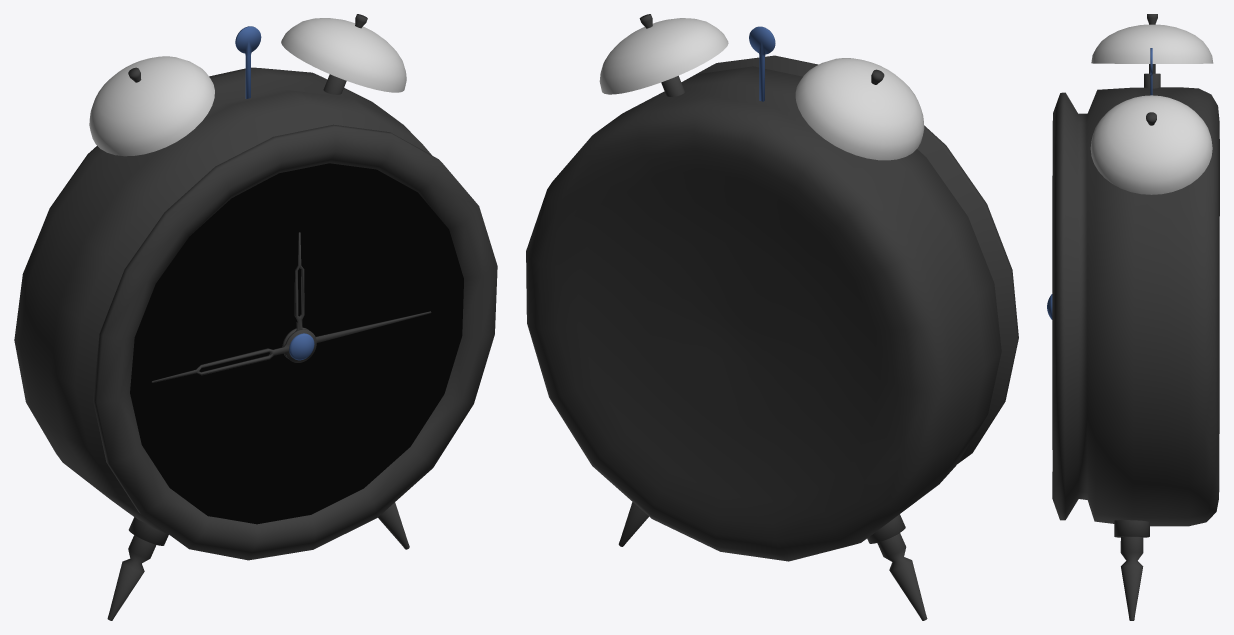
Rendered from Alarm_Clock_v1.fbx.
The picture shows the model from 3 angles, left to right: view 1: azimuth 30°, elevation 25°; view 2: azimuth 150°, elevation 25°; view 3: azimuth 270°, elevation 25°; orthographic projection. The views are drawn at different scales.
Visible parts, largest first — view 1: Clock; view 2: Clock; view 3: Clock.
Part boxes in pixels (x1,y1,x2,y2): Clock: (14, 14, 497, 620); Clock: (526, 14, 1018, 620); Clock: (1047, 14, 1219, 620).
Size of the model in its own units: 12.16 by 15.53 by 4.81.
4 materials, 1 textured.
